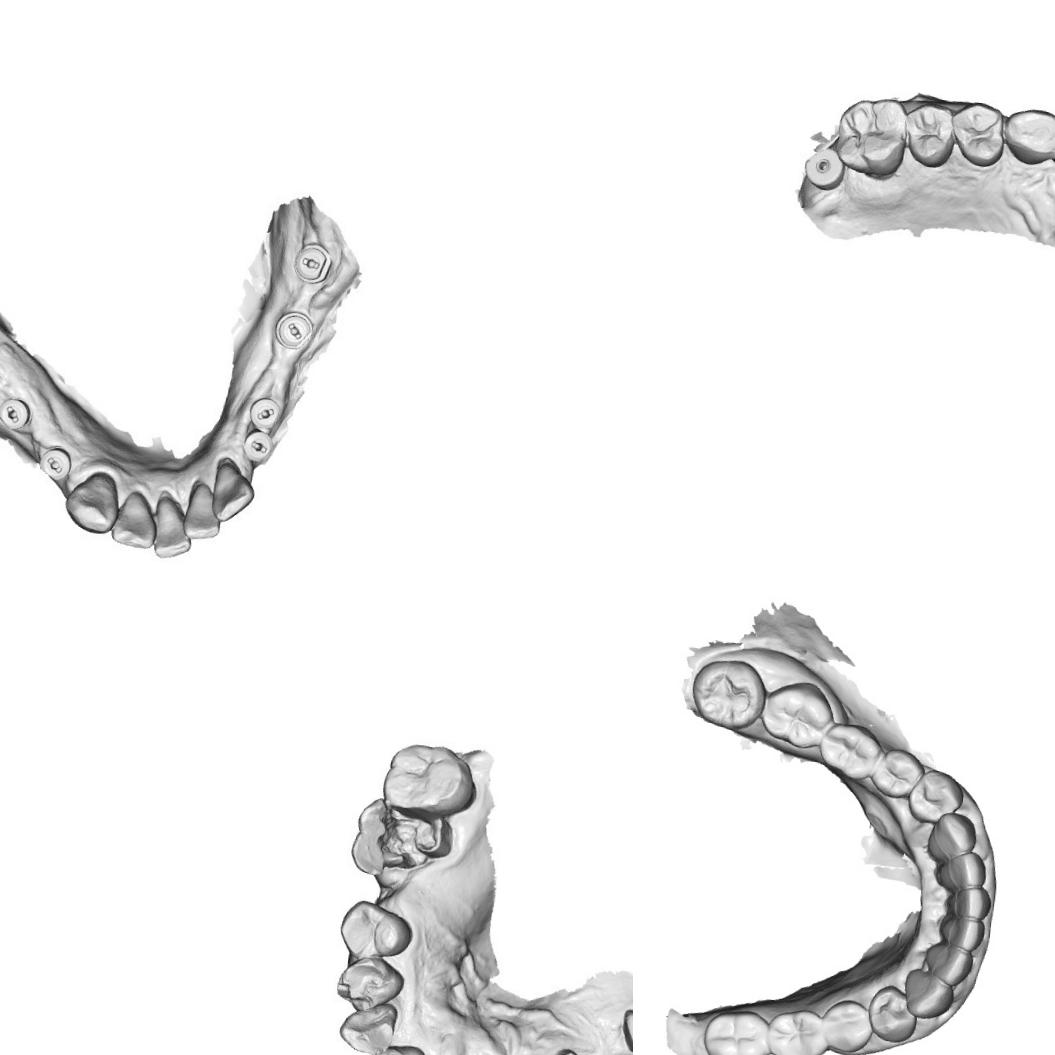canine: (60, 466, 122, 536), (1000, 105, 1055, 169), (923, 809, 979, 865), (900, 966, 954, 1021)
implant: (800, 145, 848, 188)
implant_minus: (290, 239, 336, 285), (272, 308, 316, 352), (36, 443, 76, 484), (246, 394, 282, 432), (0, 393, 33, 434), (240, 428, 276, 465)
incisor: (109, 488, 161, 552), (150, 494, 198, 563), (209, 460, 258, 526), (180, 480, 226, 544), (932, 848, 992, 896), (921, 941, 974, 989), (940, 881, 994, 925), (934, 912, 986, 956)
molar: (384, 740, 478, 819), (830, 90, 912, 180), (686, 653, 770, 735), (757, 676, 837, 753), (816, 718, 886, 784), (698, 1003, 772, 1055), (763, 1004, 830, 1055)
premolar: (334, 895, 420, 969), (945, 97, 1011, 171), (900, 98, 957, 170), (864, 980, 920, 1046), (905, 766, 966, 826), (868, 744, 925, 802), (820, 996, 875, 1055)
